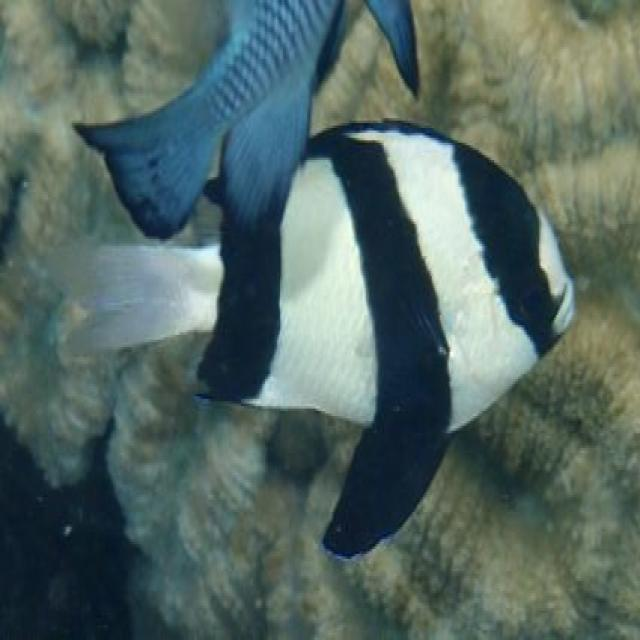Three_striped DasmselFish: (66, 124, 578, 552)
